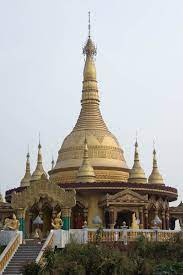Temple: (11, 15, 178, 240)
